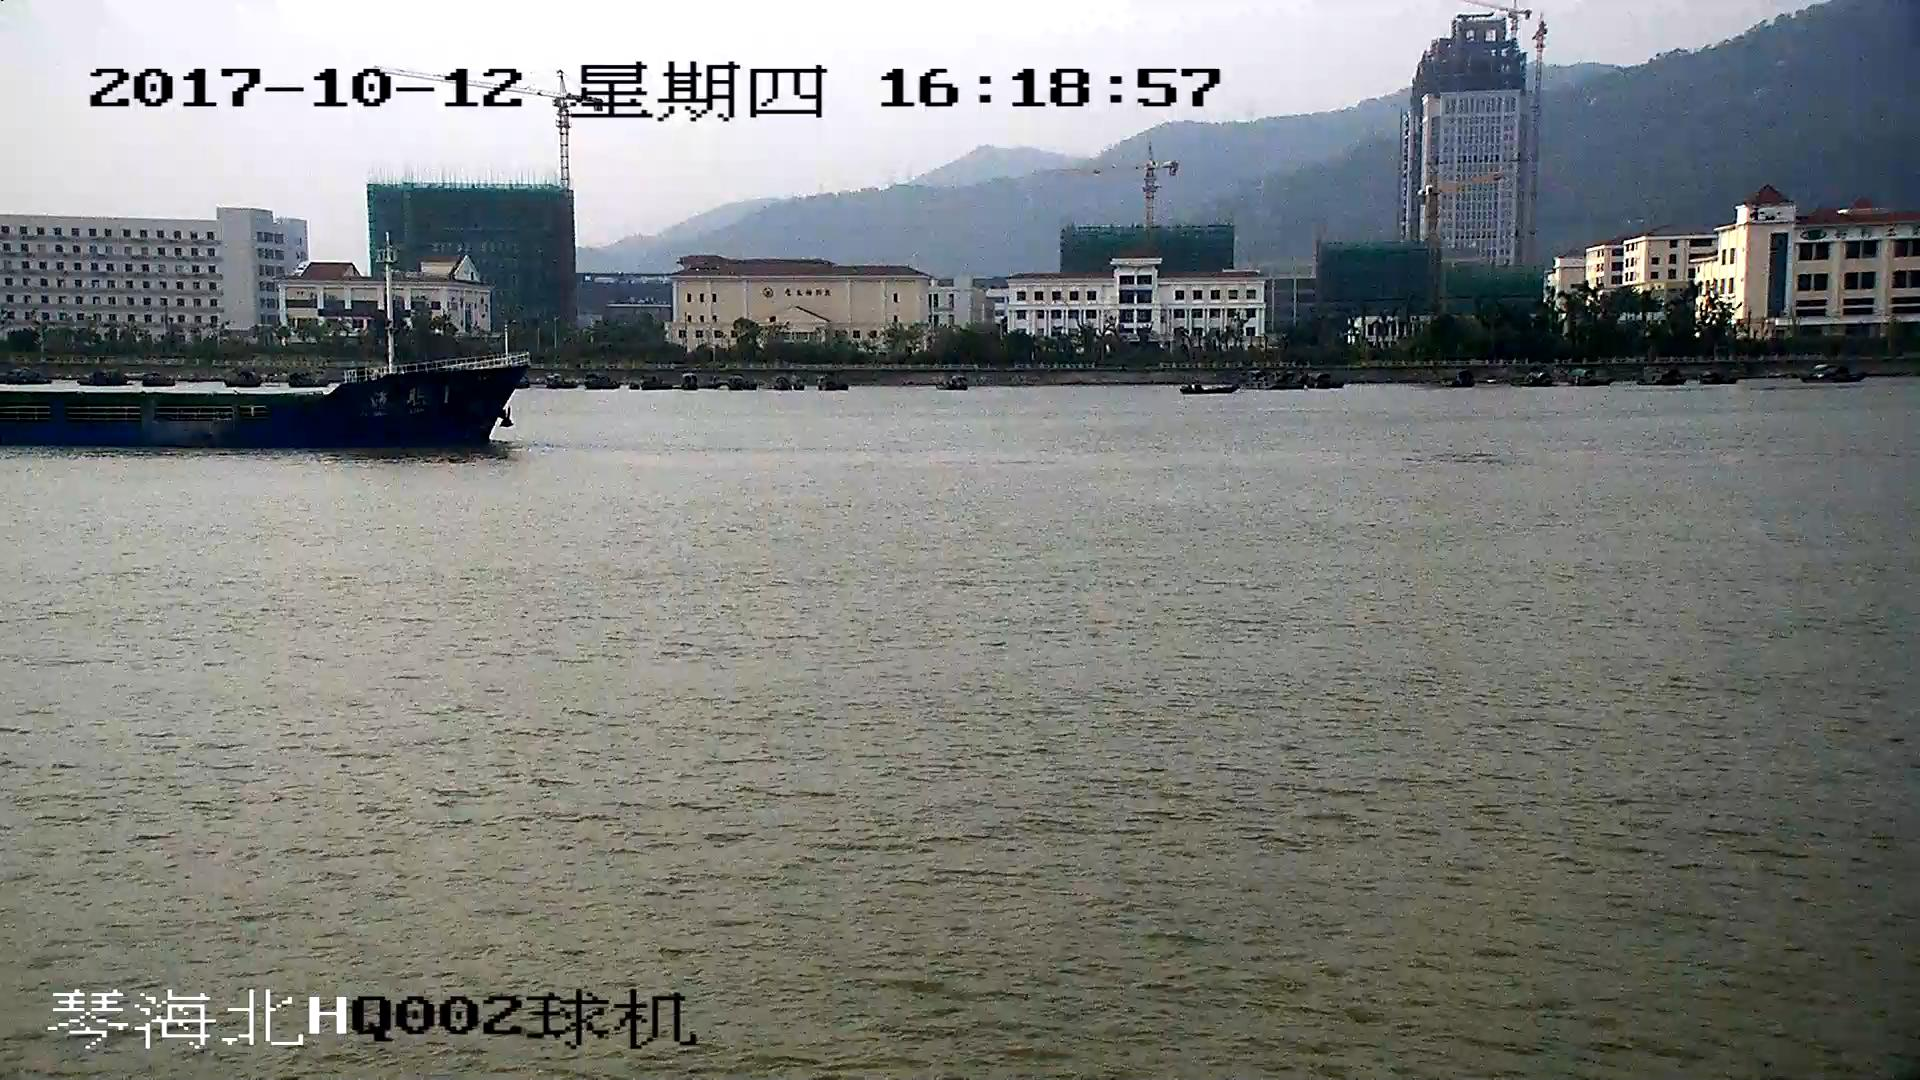general cargo ship: (1, 347, 530, 449)
